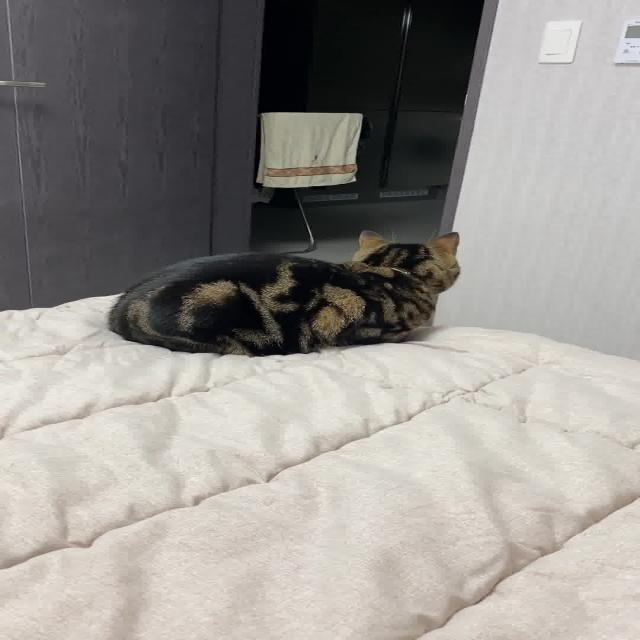cat: (106, 224, 493, 359)
